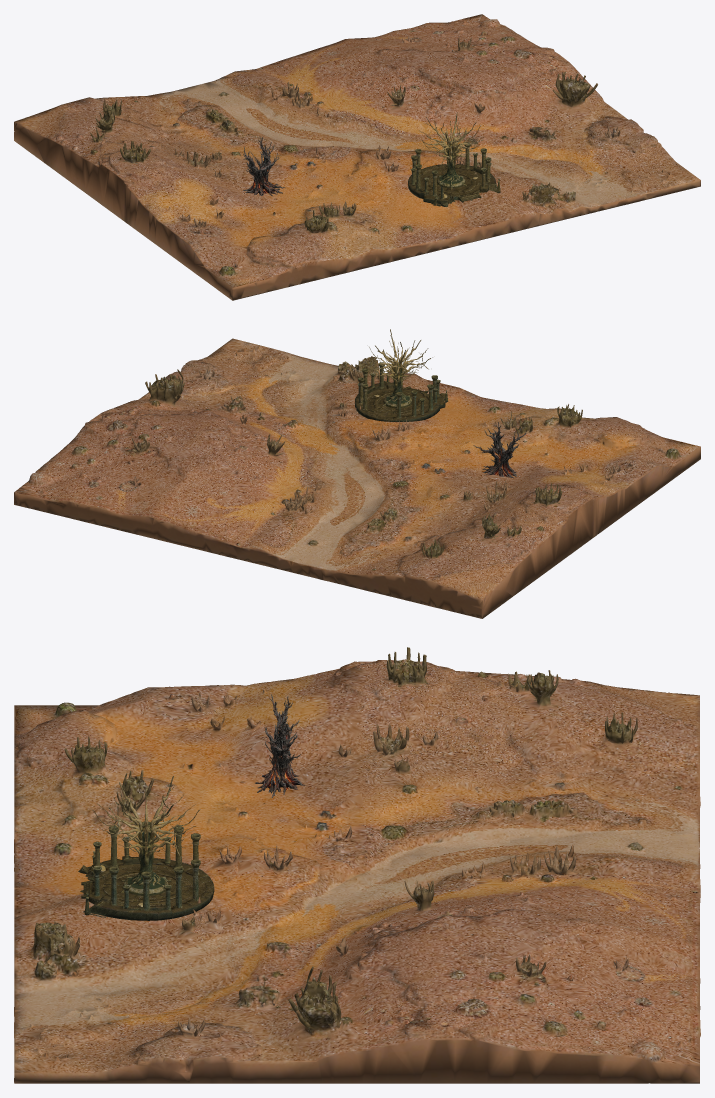
File: cenario3.glb
3 renders of one model, top to bottom at view 1: azimuth 30°, elevation 25°; view 2: azimuth 150°, elevation 25°; view 3: azimuth 270°, elevation 25°, orthographic. The views are drawn at different scales.
Visible parts, largest first — view 1: tripo_node_be223c4e, tripo_node_0079d1a2, tripo_node_dc760049; view 2: tripo_node_be223c4e, tripo_node_0079d1a2, tripo_node_dc760049; view 3: tripo_node_be223c4e, tripo_node_0079d1a2, tripo_node_dc760049.
Boxes of the visible parts, <box> form: tripo_node_be223c4e: <box>14,14,700,300</box>; tripo_node_0079d1a2: <box>408,112,500,206</box>; tripo_node_dc760049: <box>243,136,285,196</box>; tripo_node_be223c4e: <box>14,338,700,618</box>; tripo_node_0079d1a2: <box>355,329,448,421</box>; tripo_node_dc760049: <box>473,422,526,478</box>; tripo_node_be223c4e: <box>14,647,700,1083</box>; tripo_node_0079d1a2: <box>78,776,214,920</box>; tripo_node_dc760049: <box>255,694,304,797</box>.
Size of the model in its own units: 294 by 52.42 by 238.
Materials: 3 (3 with a texture image).
